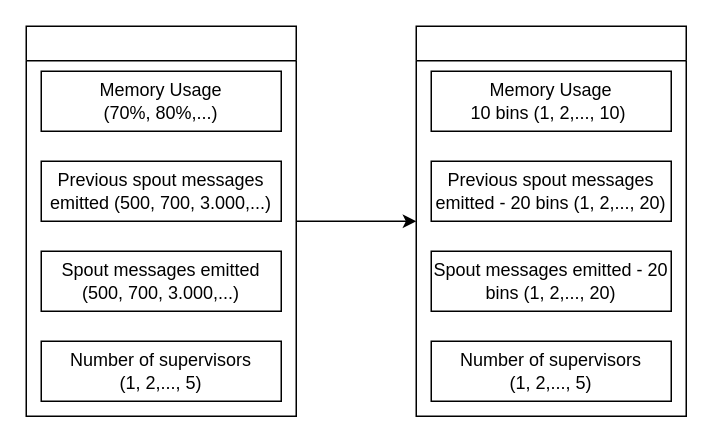
The diagram is 713 pixels wide and 443 high, and some of its shapes have lost their labels. Each missing label, with the box of its shape:
Continuous: (25, 25, 296, 416)
Discrete: (415, 25, 686, 416)
